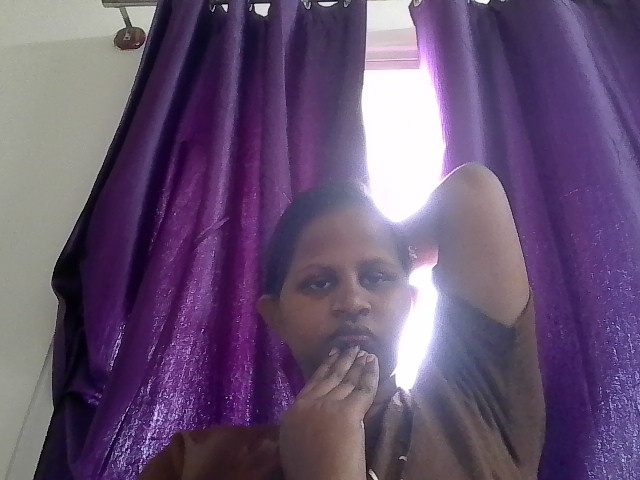THANK YOU: (214, 272, 466, 480)
